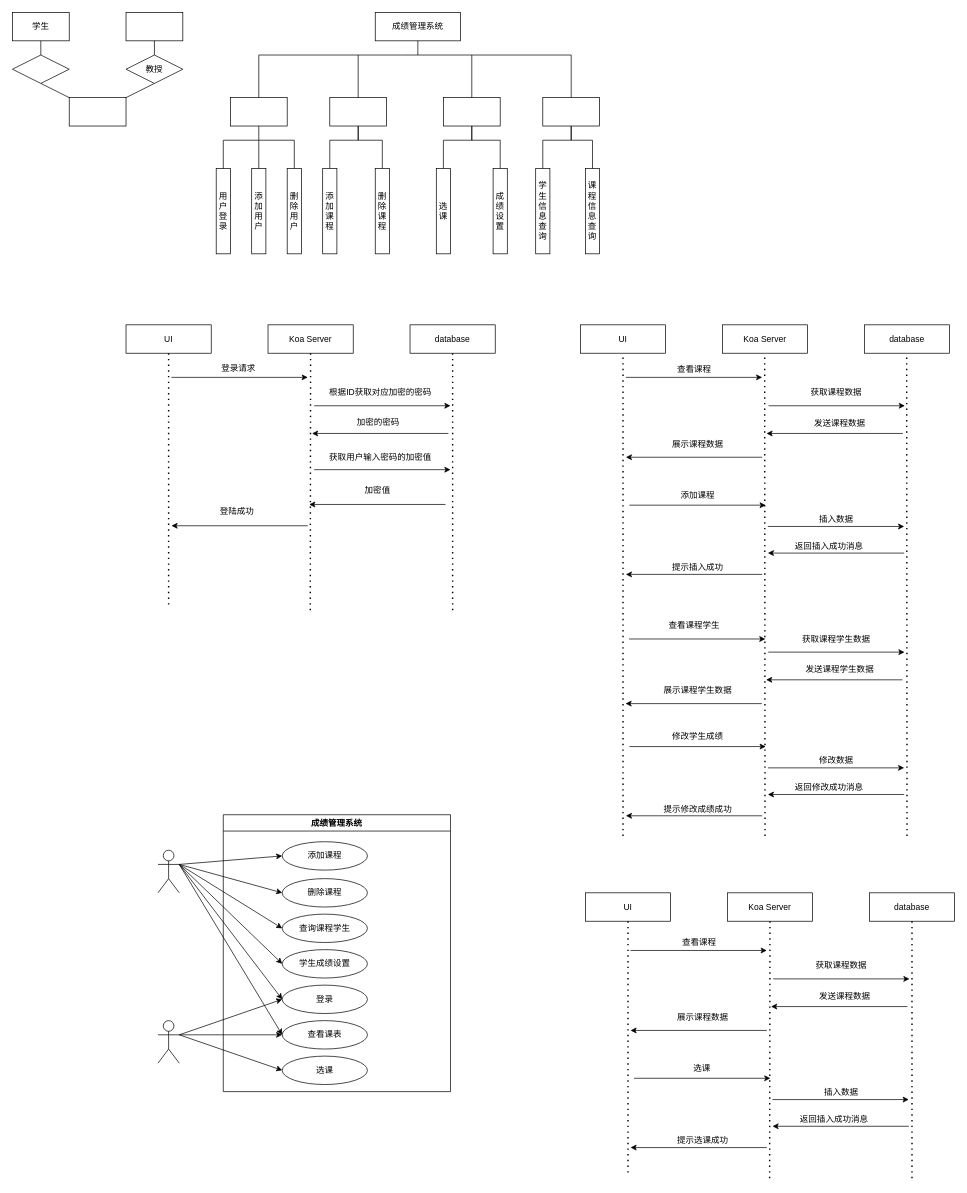
The diagram is 967 pixels wide and 1193 high, and some of its shapes have lost their labels. The shapes that lost their labels are listed below. From the top down, each one's centre as x and y in pixels, then its label:
At pixel 154 26: "老师".
At pixel 40 68: "学习".
At pixel 97 111: "课程".
At pixel 258 111: "用户管理".
At pixel 358 111: "课程管理".
At pixel 471 111: "选课管理".
At pixel 571 111: "信息查询".
At pixel 168 871: "Teacher".
At pixel 168 1041: "Student".
